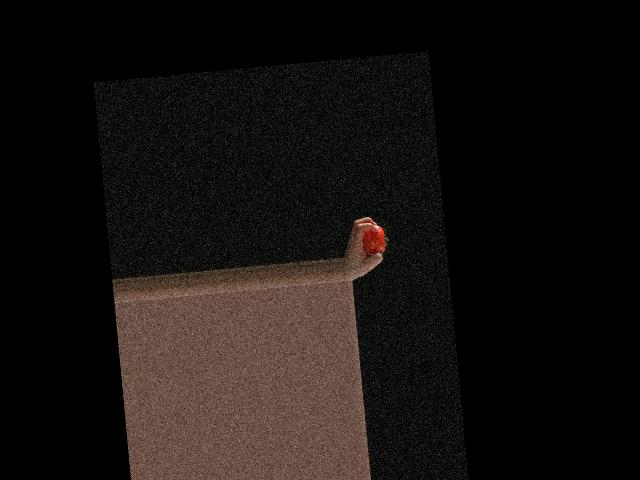tomato: (362, 224, 389, 256)
